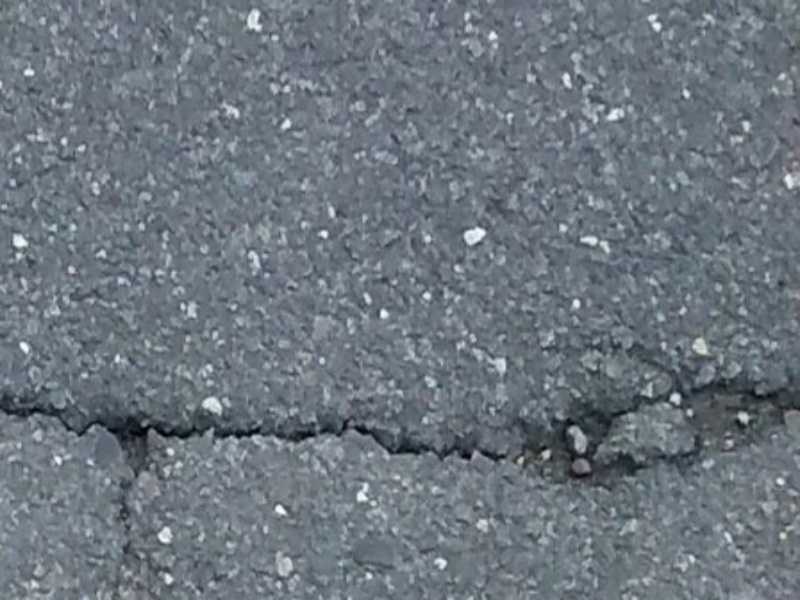crack: (13, 362, 796, 491), (88, 415, 161, 570)
